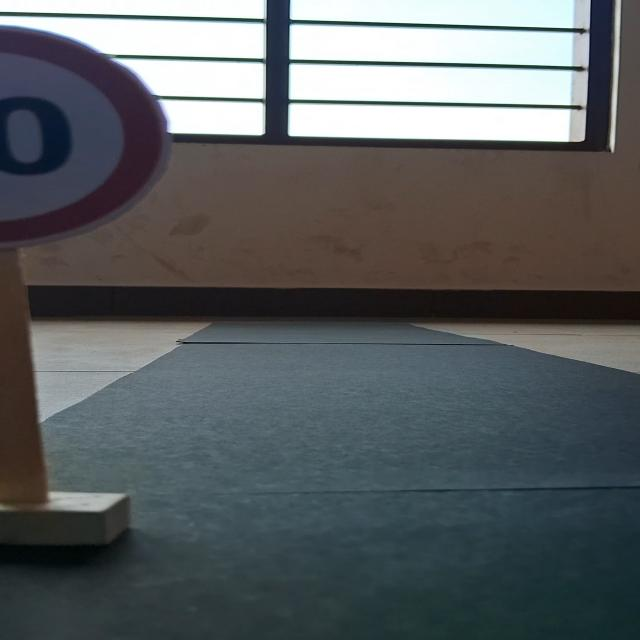Reject: (0, 20, 184, 261)
